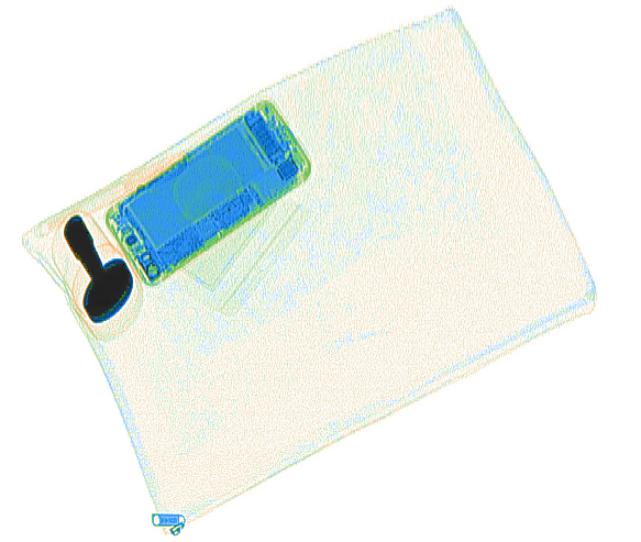seal: (62, 213, 134, 323)
